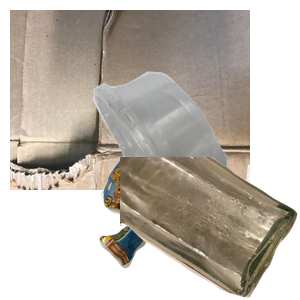cardboard: (10, 10, 250, 190)
glass: (120, 157, 300, 300)
plastic: (91, 69, 300, 249)
trash: (97, 151, 283, 300)
